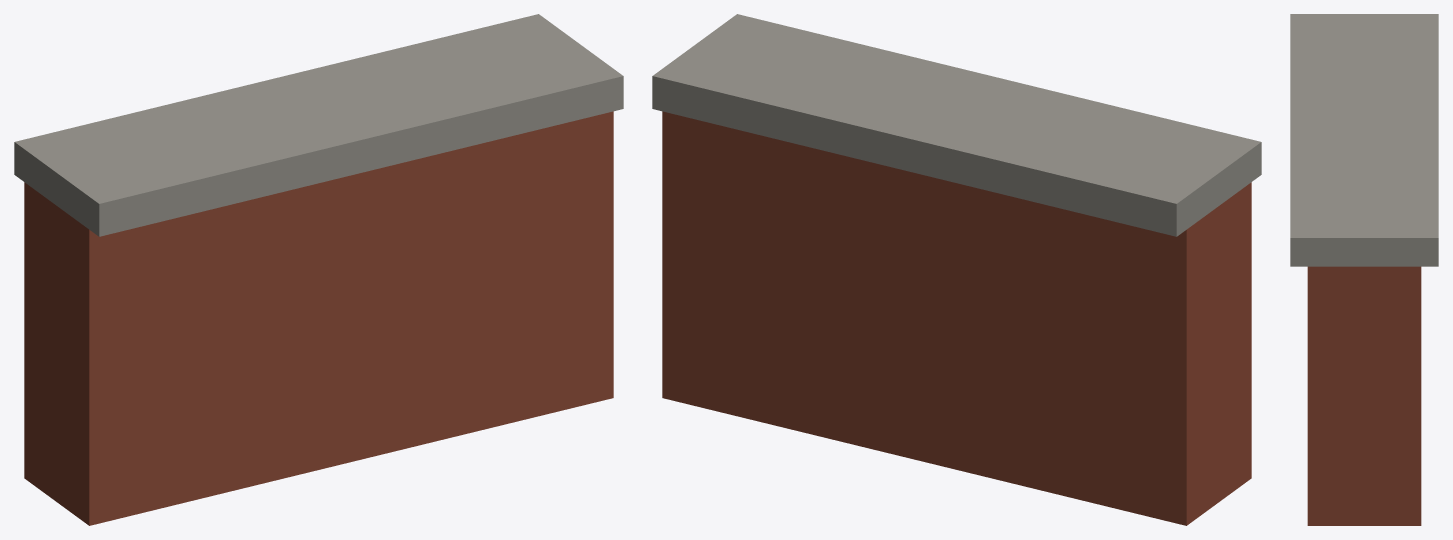
Rendered from boundary.brick_wall.h600.glb.
3 renders of one model, left to right at view 1: azimuth 30°, elevation 25°; view 2: azimuth 150°, elevation 25°; view 3: azimuth 270°, elevation 25°, orthographic. The views are drawn at different scales.
Parts seen in each view (by area): view 1: main__brick, main__concrete; view 2: main__brick, main__concrete; view 3: main__concrete, main__brick.
Part boxes in pixels (x1=…): main__brick: x1=24, y1=111, x2=613, y2=525; main__concrete: x1=14, y1=14, x2=623, y2=236; main__brick: x1=662, y1=111, x2=1251, y2=525; main__concrete: x1=652, y1=14, x2=1261, y2=236; main__concrete: x1=1290, y1=14, x2=1438, y2=266; main__brick: x1=1307, y1=266, x2=1421, y2=525.
Bounding box in the file's own units: 1 × 0.6 × 0.28.
